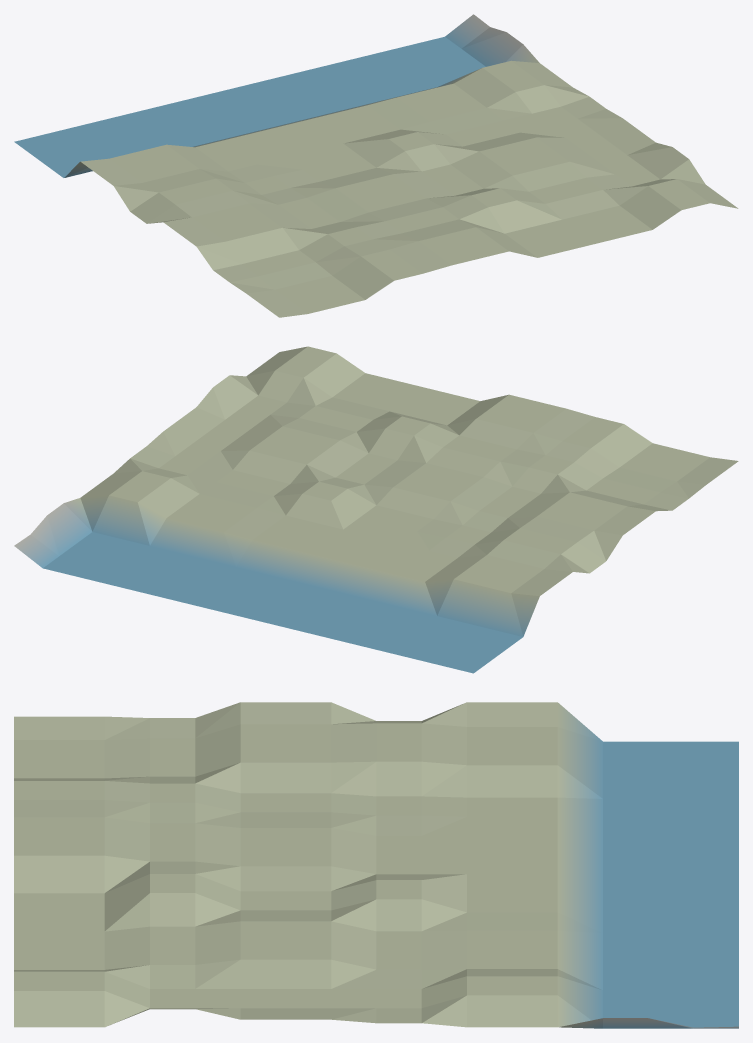
3 views of the same model, one above another, from view 1: azimuth 30°, elevation 25°; view 2: azimuth 150°, elevation 25°; view 3: azimuth 270°, elevation 25° (orthographic). The views are drawn at different scales.
Bounding box in the file's own units: 32 × 1.94 × 32.
